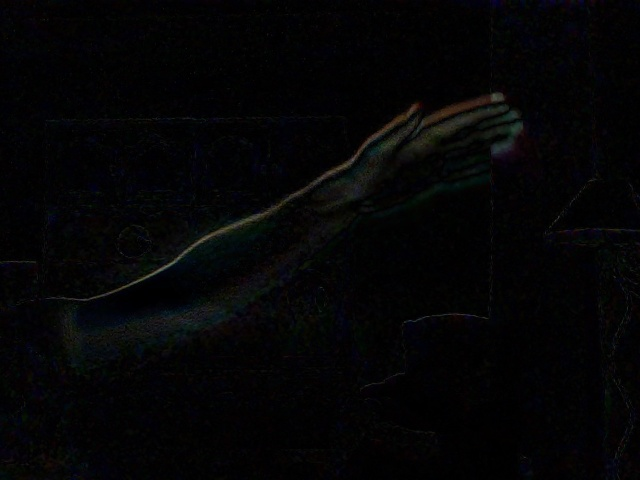hand_pa: (358, 79, 529, 215)
